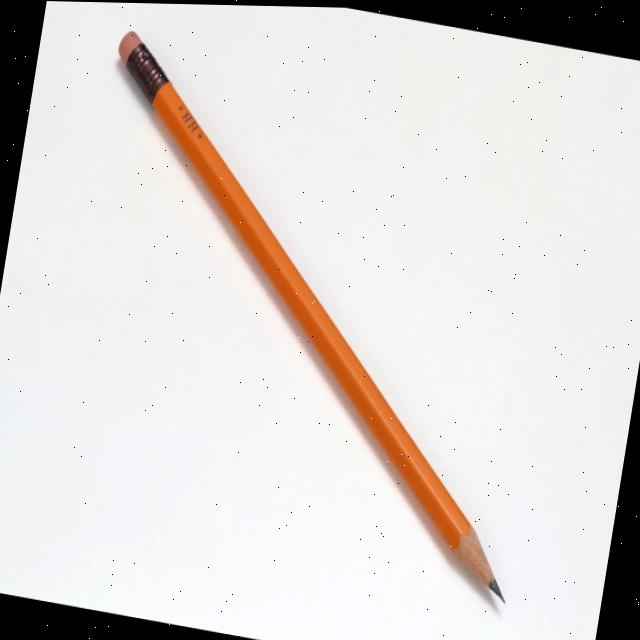pencil: (110, 15, 523, 621)
